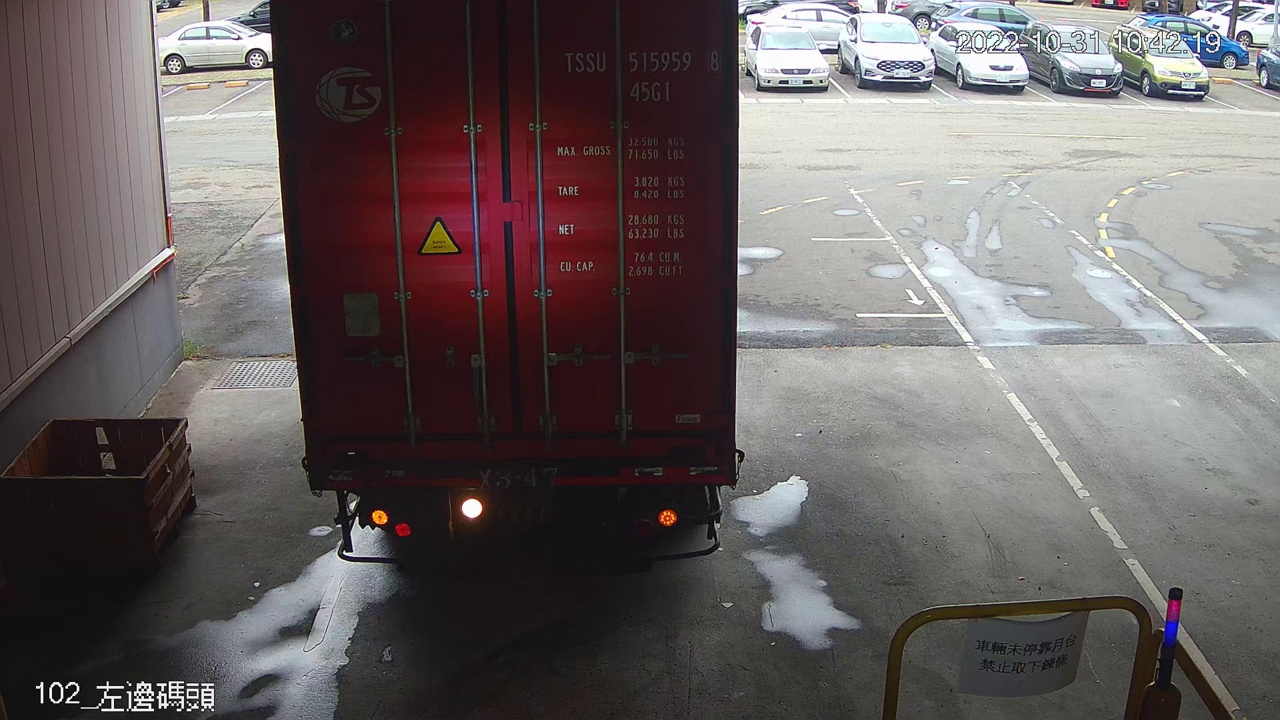container: (558, 44, 726, 108)
